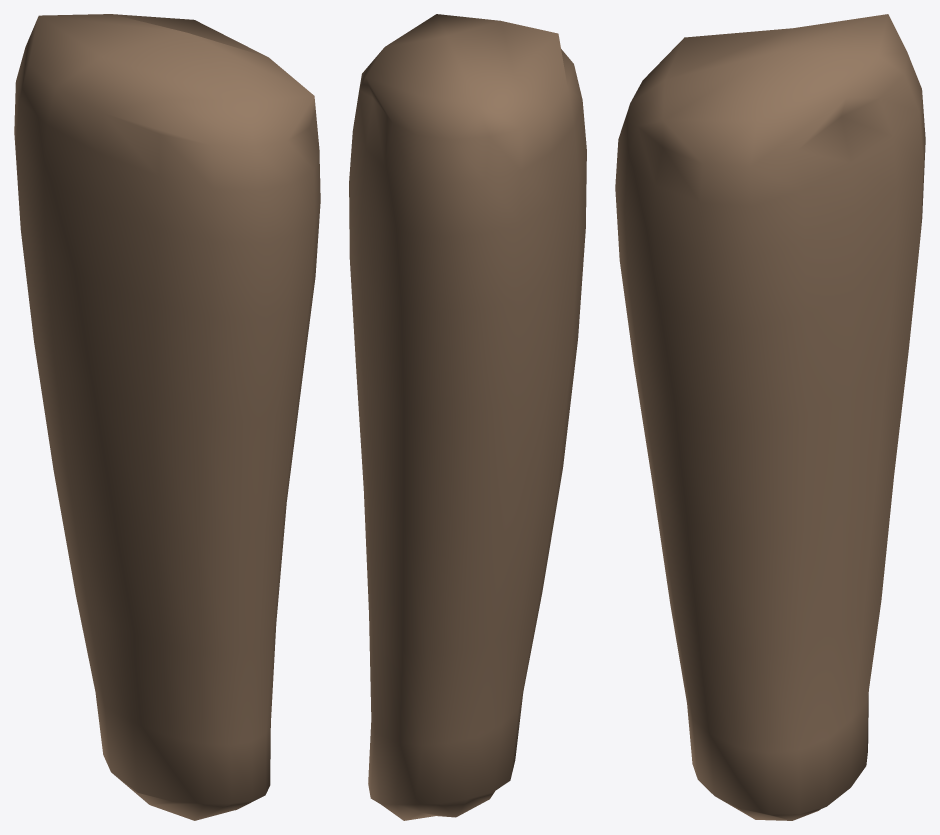
Rendered from personajePacienteAnteBrazo.fbx.
The picture shows the model from 3 angles, left to right: view 1: azimuth 30°, elevation 25°; view 2: azimuth 150°, elevation 25°; view 3: azimuth 270°, elevation 25°; orthographic projection. The views are drawn at different scales.
Parts seen in each view (by area): view 1: antebrazos; view 2: antebrazos; view 3: antebrazos.
Boxes of the visible parts, x1,y1,x2,y2 form: antebrazos: (14, 14, 320, 820); antebrazos: (349, 14, 586, 820); antebrazos: (615, 14, 925, 820).
Size of the model in its own units: 147 by 480 by 179.
